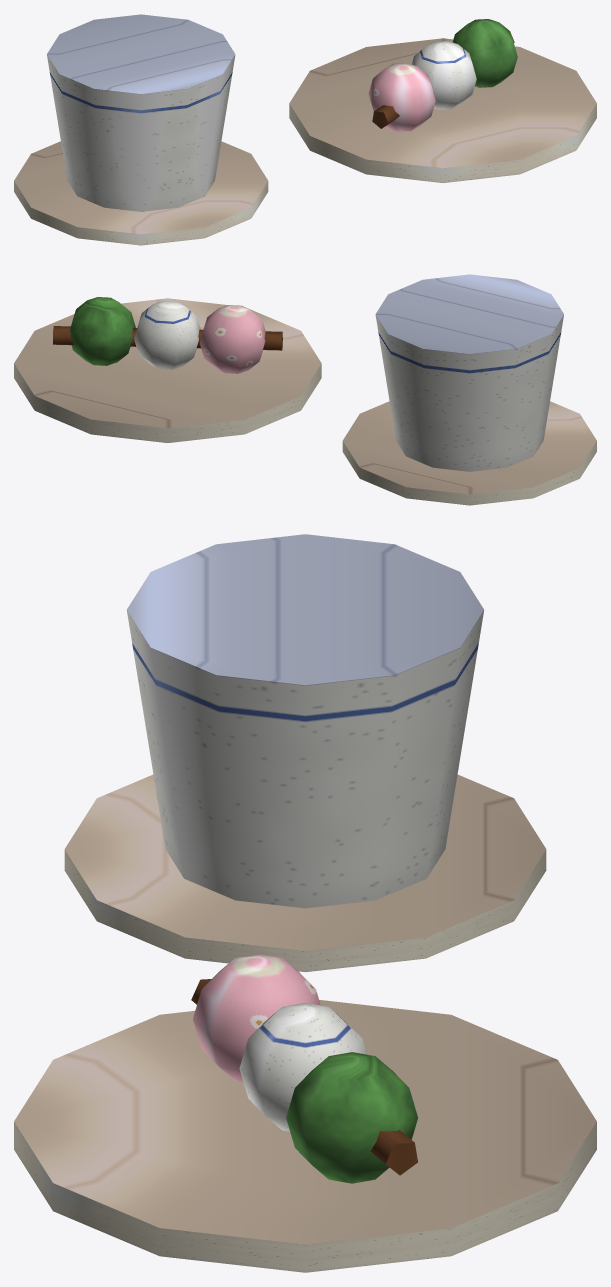
Rendered from dish-tea.glb.
3 views of the same model, one above another, from view 1: azimuth 30°, elevation 25°; view 2: azimuth 150°, elevation 25°; view 3: azimuth 270°, elevation 25° (orthographic). The views are drawn at different scales.
Parts seen in each view (by area): view 1: dish-tea; view 2: dish-tea; view 3: dish-tea.
Part boxes in pixels (x1=…): dish-tea: x1=14, y1=14, x2=596, y2=245; dish-tea: x1=14, y1=274, x2=596, y2=505; dish-tea: x1=14, y1=534, x2=596, y2=1272.
Size of the model in its own units: 0.0307 by 0.0074 by 0.015.
1 material, 1 textured.
